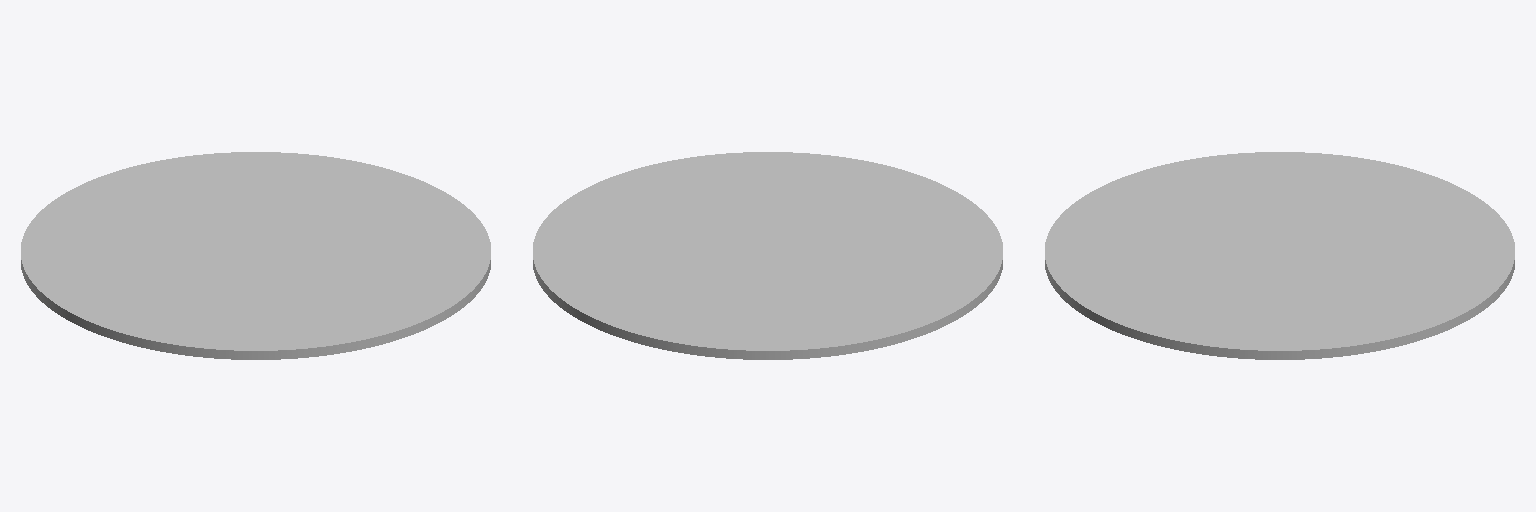
The model's file is target.obj.
The picture shows the model from 3 angles: view 1: azimuth 30°, elevation 25°; view 2: azimuth 150°, elevation 25°; view 3: azimuth 270°, elevation 25°; orthographic projection.
Parts seen in each view (by area): view 1: target_Cylinder.002; view 2: target_Cylinder.002; view 3: target_Cylinder.002.
Boxes of the visible parts, <box> form: target_Cylinder.002: <box>21,152,490,359</box>; target_Cylinder.002: <box>533,152,1002,359</box>; target_Cylinder.002: <box>1045,152,1514,359</box>.
Bounding box in the file's own units: 140 × 3 × 140.